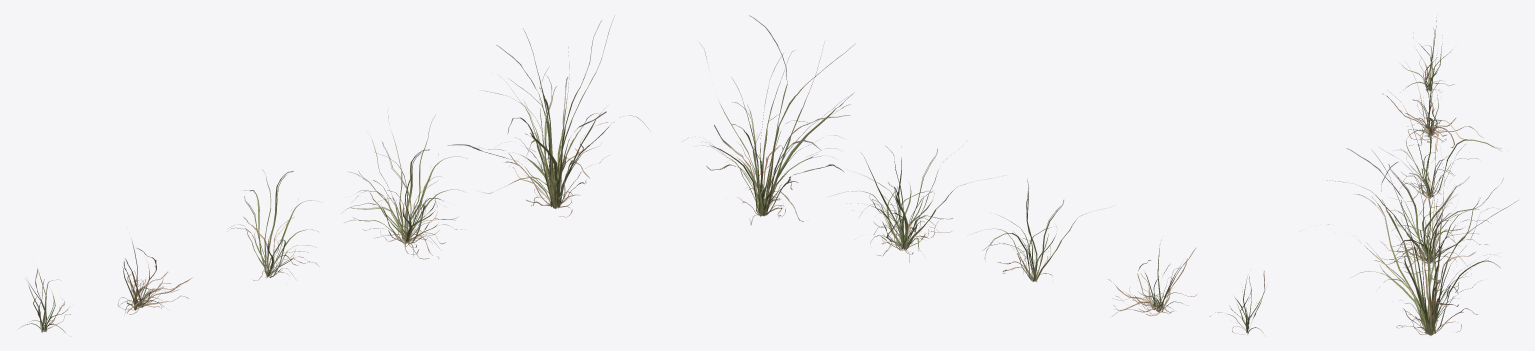
Rendered from polyhaven-grass-medium-02.glb.
The picture shows the model from 3 angles, left to right: view 1: azimuth 30°, elevation 25°; view 2: azimuth 150°, elevation 25°; view 3: azimuth 270°, elevation 25°; orthographic projection. The views are drawn at different scales.
Parts seen in each view (by area): view 1: grass_medium_02_e_0, grass_medium_02_d_0, grass_medium_02_c_0, grass_medium_02_b_0, grass_medium_02_a_0; view 2: grass_medium_02_e_0, grass_medium_02_d_0, grass_medium_02_c_0, grass_medium_02_b_0, grass_medium_02_a_0; view 3: grass_medium_02_e_0, grass_medium_02_d_0, grass_medium_02_c_0, grass_medium_02_b_0, grass_medium_02_a_0.
Boxes of the visible parts, bbox=[...] form: grass_medium_02_e_0: bbox=[448, 16, 648, 217]; grass_medium_02_d_0: bbox=[345, 115, 467, 259]; grass_medium_02_c_0: bbox=[228, 169, 318, 280]; grass_medium_02_b_0: bbox=[117, 238, 192, 314]; grass_medium_02_a_0: bbox=[19, 269, 70, 332]; grass_medium_02_e_0: bbox=[684, 15, 854, 224]; grass_medium_02_d_0: bbox=[830, 146, 993, 262]; grass_medium_02_c_0: bbox=[975, 179, 1086, 281]; grass_medium_02_b_0: bbox=[1108, 240, 1197, 316]; grass_medium_02_a_0: bbox=[1209, 271, 1265, 334]; grass_medium_02_e_0: bbox=[1328, 148, 1518, 335]; grass_medium_02_d_0: bbox=[1327, 144, 1503, 274]; grass_medium_02_c_0: bbox=[1391, 93, 1501, 215]; grass_medium_02_b_0: bbox=[1382, 55, 1482, 151]; grass_medium_02_a_0: bbox=[1402, 17, 1454, 92].
Size of the model in its own units: 1.31 by 0.4053 by 0.4332.
1 material, 1 textured.
